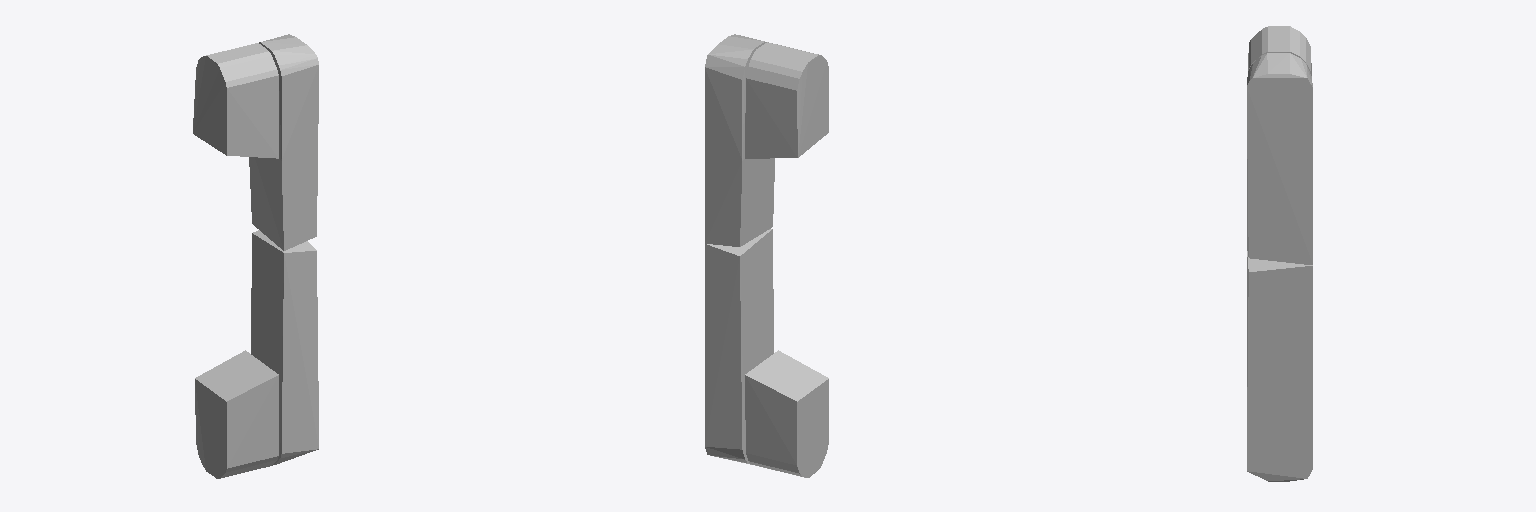
File: drawer_handle_convexdecomposition.obj
3 views of the same model, side by side, from view 1: azimuth 30°, elevation 25°; view 2: azimuth 150°, elevation 25°; view 3: azimuth 270°, elevation 25° (orthographic).
Visible parts, largest first — view 1: convex_1, convex_3, convex_0, convex_2; view 2: convex_1, convex_3, convex_0, convex_2; view 3: convex_1, convex_3, convex_2.
Part boxes in pixels (x1,y1,x2,y2): convex_1: (251, 230, 318, 465); convex_3: (249, 34, 318, 250); convex_0: (195, 350, 278, 478); convex_2: (193, 43, 278, 158); convex_1: (705, 229, 773, 464); convex_3: (705, 34, 774, 246); convex_0: (745, 350, 828, 477); convex_2: (745, 42, 828, 158); convex_1: (1247, 251, 1312, 481); convex_3: (1247, 53, 1312, 264); convex_2: (1248, 26, 1311, 75).
Bounding box in the file's own units: 0.0392 × 0.167 × 0.0243.